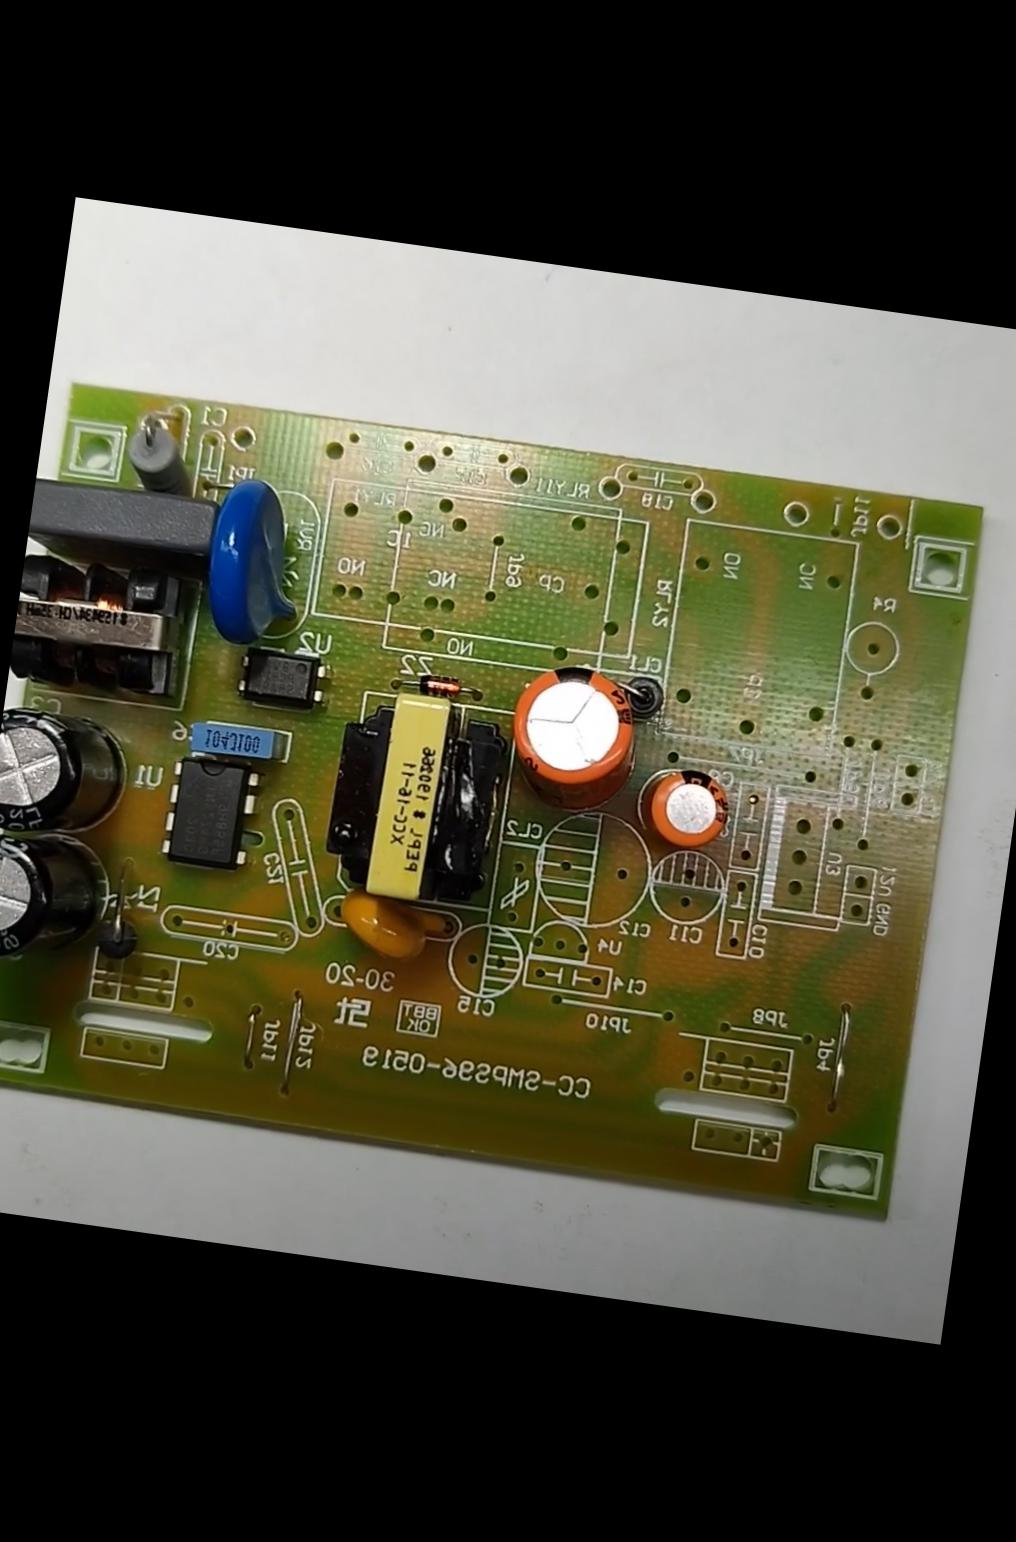Cap1: (500, 658, 645, 810)
Cap2: (642, 759, 735, 856)
Cap3: (0, 705, 134, 848)
Cap4: (0, 828, 122, 982)
MOSFET: (158, 749, 265, 876)
Mov: (190, 471, 313, 660)
Resistor: (122, 415, 204, 499)
Transformer: (315, 685, 515, 915), (8, 544, 193, 698)
